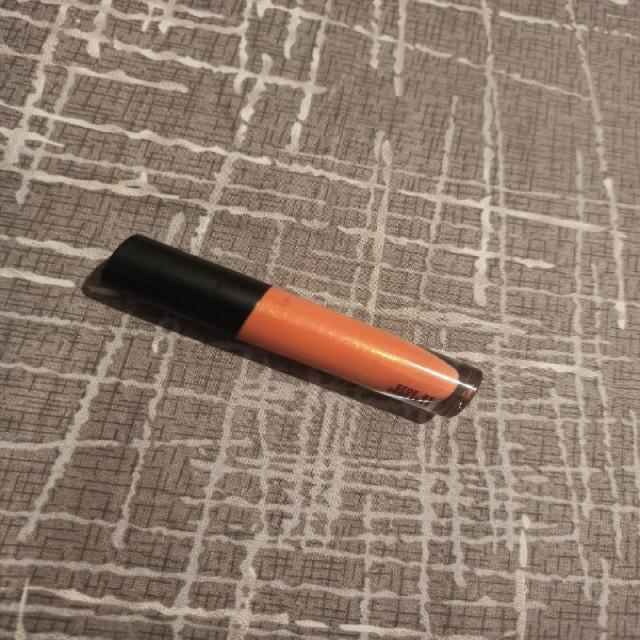lipstick: (98, 233, 482, 419)
